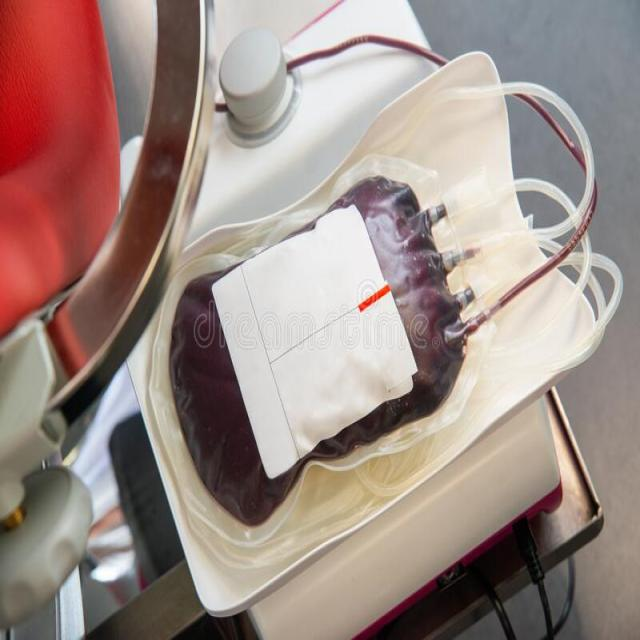B3: (140, 152, 488, 546)
